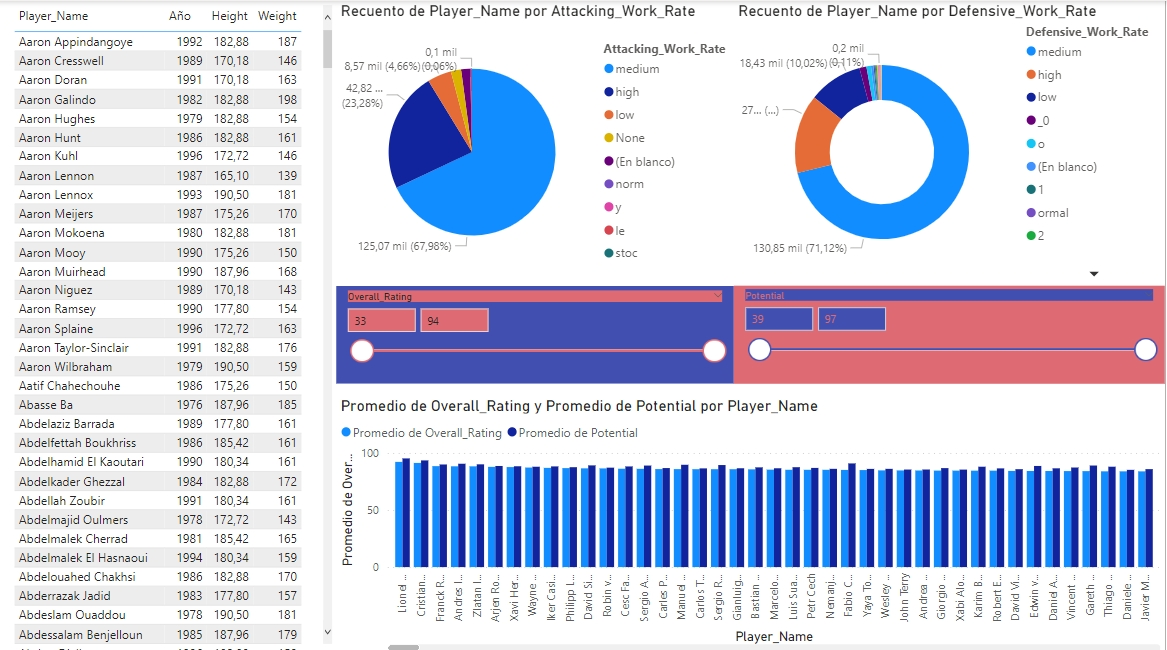

Layout of this report page (visuals, bound fields, positions):
{"tool":"powerbi","page":{"name":"Página 1","canvas":[1280,720],"ordinal":0},"visuals":[{"type":"tableEx","fields":{"Values":["Worksheet (2).Column1","Worksheet (2).Column2.Variación.Jerarquía de fechas.Año","Worksheet (2).Column3","Worksheet (2).Column4"]},"box":[9.6,0,359.8,719.7],"z":0},{"type":"slicer","fields":{"Values":["Worksheet (2).Column5"]},"box":[369.4,313.1,436.7,107.1],"z":1000},{"type":"clusteredColumnChart","fields":{"Category":["Worksheet (2).Player_Name"],"Y":["Worksheet (2).Overall_Rating","Worksheet (2).Column6"]},"box":[369.4,434,910.6,285.7],"z":2000},{"type":"slicer","fields":{"Values":["Worksheet (2).Potential"]},"box":[806.2,311.8,473.8,108.5],"z":2001},{"type":"pieChart","title":"Player_Name & Attacking_Work_Rate","fields":{"Category":["Worksheet (2).Column8"],"Y":["Worksheet (2).Player_Name"]},"box":[369.4,0,436.7,313.1],"z":2002},{"type":"donutChart","title":"Player_Name & Defensive_Work_Rate","fields":{"Category":["Worksheet (2).Column9"],"Y":["Worksheet (2).Player_Name"]},"box":[806.2,0,473.8,313.1],"z":2003}]}

Visuals, with their boxes in screenshot pixels (x1, y1, x2, y2), scaled from the page's 1280x720 canvas onto the 1167x650 screenshot:
tableEx - Worksheet (2).Column1 x Worksheet (2).Column2.Variación.Jerarquía de fechas.Año: 9, 0, 337, 649
slicer - Worksheet (2).Column5: 337, 283, 735, 379
clusteredColumnChart - Worksheet (2).Player_Name x Worksheet (2).Overall_Rating: 337, 392, 1166, 649
slicer - Worksheet (2).Potential: 735, 281, 1166, 379
"Player_Name & Attacking_Work_Rate" pieChart: 337, 0, 735, 283
"Player_Name & Defensive_Work_Rate" donutChart: 735, 0, 1166, 283
